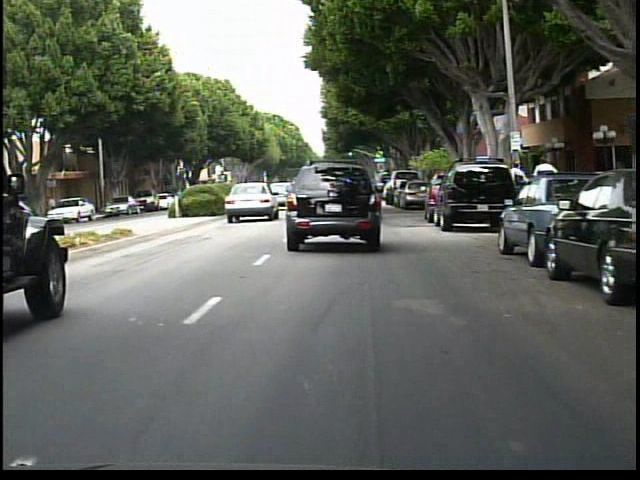person: (529, 152, 560, 218), (504, 158, 528, 215), (45, 191, 65, 224)
